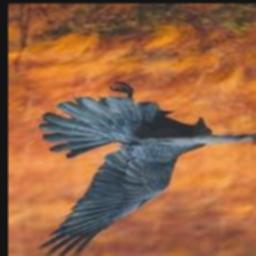Crow: (37, 83, 256, 256)
